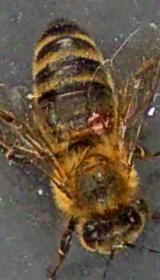varroa_mite: (82, 106, 117, 138)
